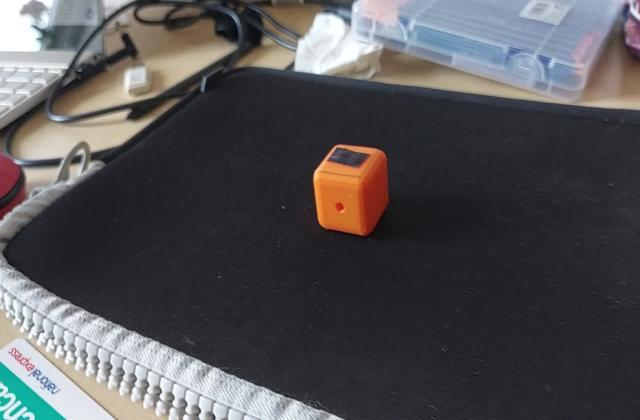black: (329, 148, 374, 170)
cube: (314, 141, 395, 237)
